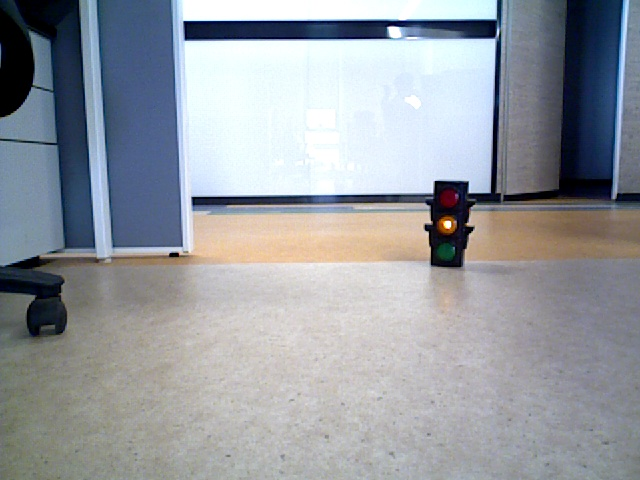yellow: (433, 182, 462, 267)
